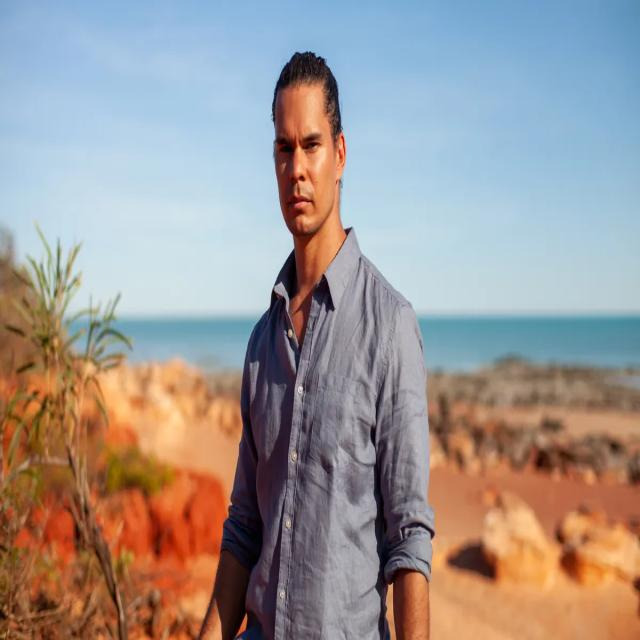face: (272, 79, 338, 244)
